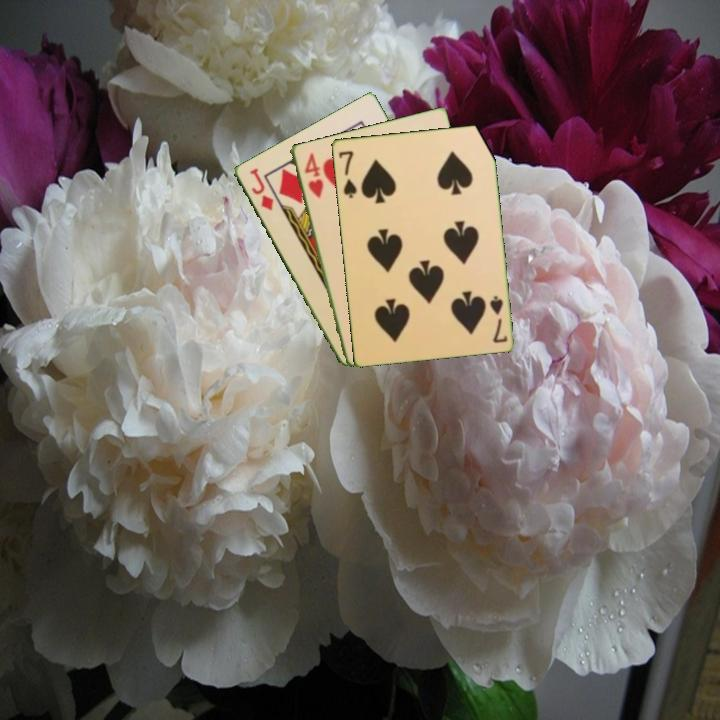4h: (301, 149, 326, 201)
7s: (486, 292, 510, 346), (335, 147, 359, 200)
Jd: (246, 164, 276, 213)
